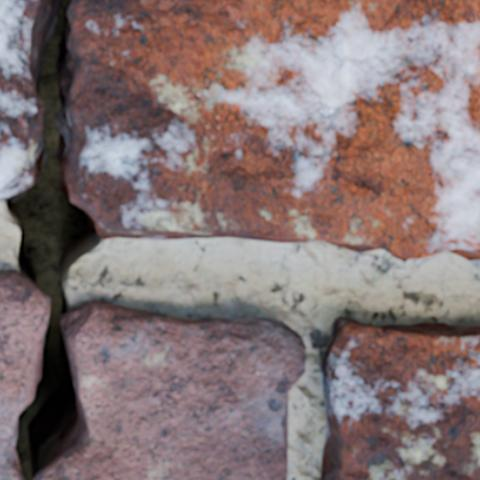brick: (320, 317, 479, 479)
broken_brick: (68, 0, 479, 262), (38, 299, 307, 479), (0, 269, 48, 479), (0, 0, 39, 202)
crack: (2, 0, 106, 479)
